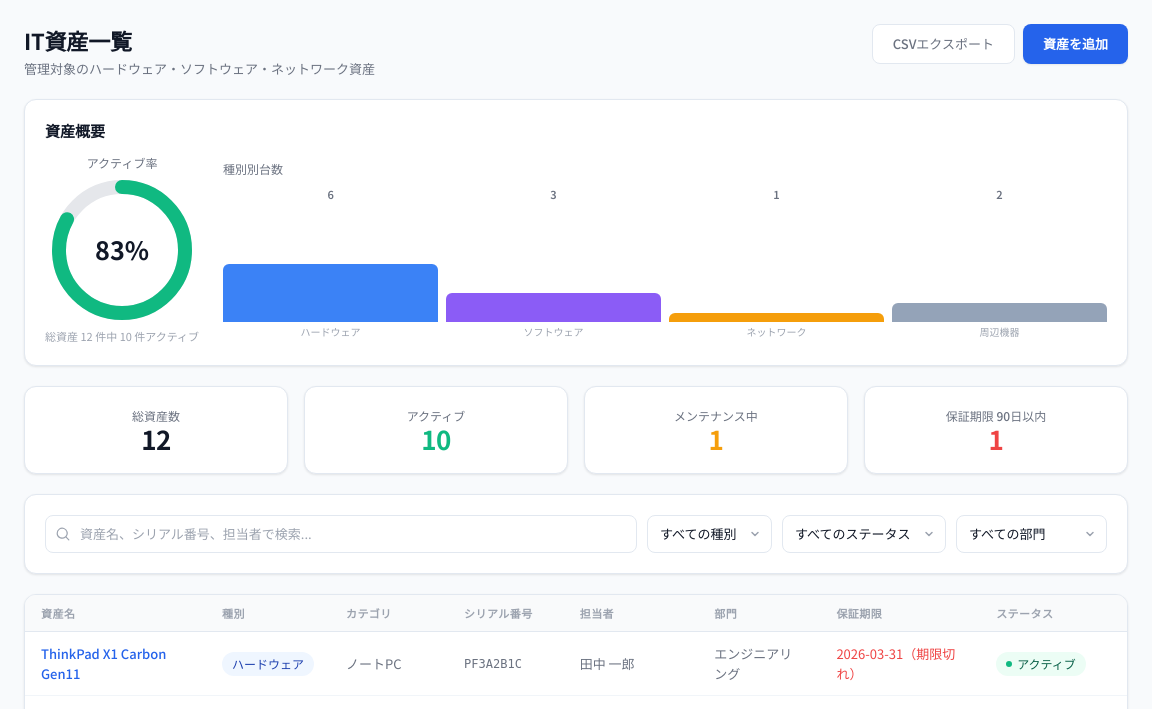
Assets page - status filter branch (statusFilter !== "all") › statusFilter = inactive: 0 results → empty state branch
The image size is (1152, 709).
Select "inactive" in the 2nd dropdown at (864, 534), box left=782, top=515, right=946, bottom=553
(page scrolled)
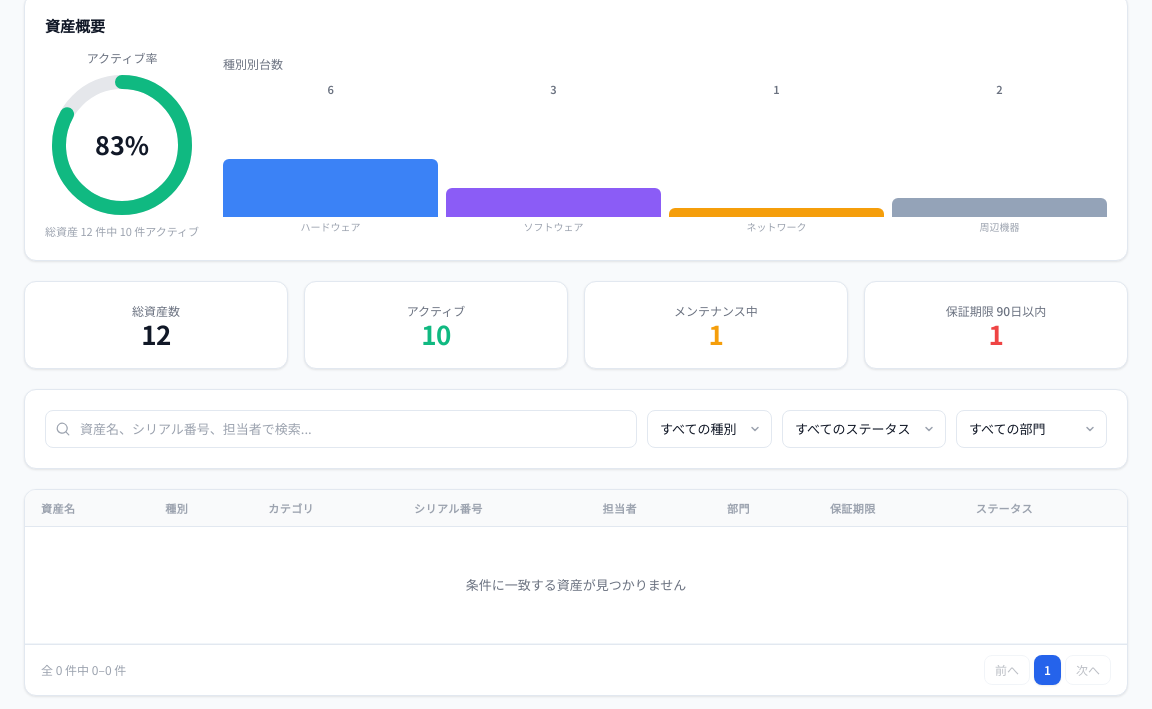
Expected: the text "条件に一致する資産が見つかりません" is shown, left=25, top=527, right=1127, bottom=643
